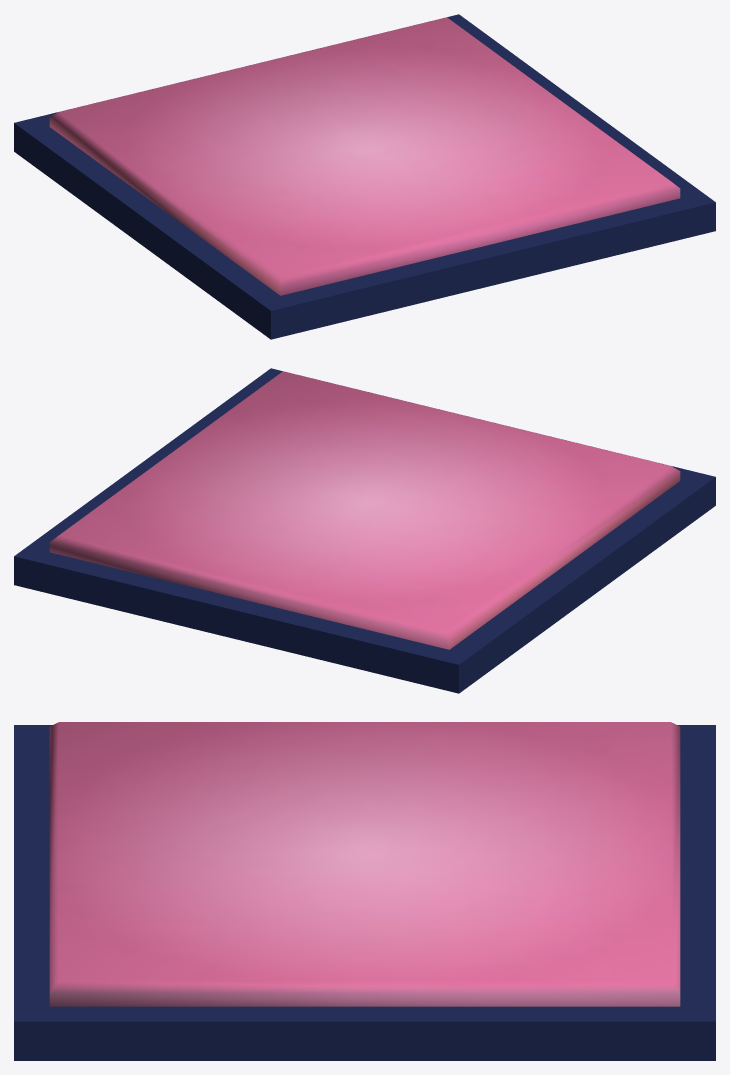
Rendered from tilePink.glb.
The picture shows the model from 3 angles, top to bottom: view 1: azimuth 30°, elevation 25°; view 2: azimuth 150°, elevation 25°; view 3: azimuth 270°, elevation 25°; orthographic projection. The views are drawn at different scales.
Visible parts, largest first — view 1: TilePink; view 2: TilePink; view 3: TilePink.
Boxes of the visible parts, <box> form: TilePink: <box>14,14,715,339</box>; TilePink: <box>14,368,715,693</box>; TilePink: <box>14,722,715,1060</box>.
Size of what is drawn, in the model's own units: 2 by 0.192 by 2.
Materials: 1 (1 with a texture image).
